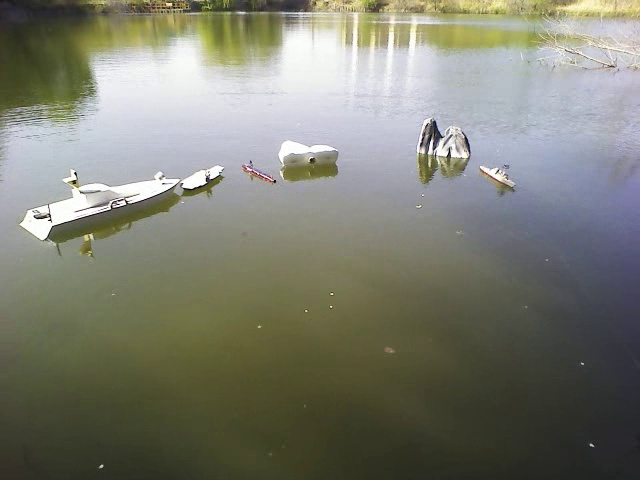aircraft_carrier: (181, 161, 229, 198)
boat: (22, 172, 181, 238)
iceberg: (279, 132, 341, 172)
rock: (415, 110, 469, 161)
submarine: (242, 158, 277, 190)
warship: (482, 159, 519, 191)
